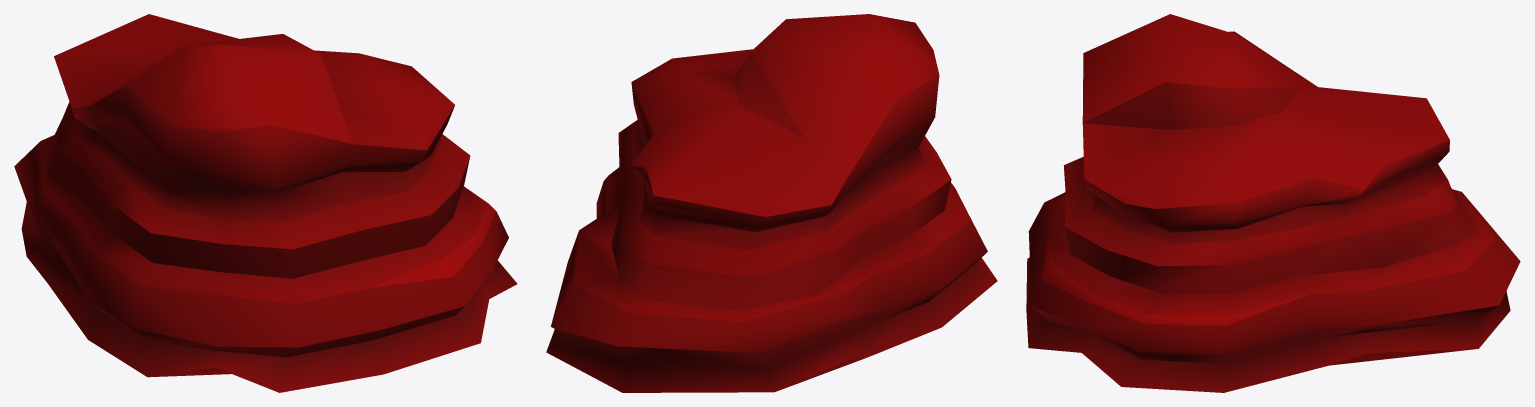
The model's file is geology-rocks-layeredrock_v4.fbx.
3 views of the same model, side by side, from view 1: azimuth 30°, elevation 25°; view 2: azimuth 150°, elevation 25°; view 3: azimuth 270°, elevation 25° (orthographic). The views are drawn at different scales.
Parts seen in each view (by area): view 1: LayeredRock_v4; view 2: LayeredRock_v4; view 3: LayeredRock_v4.
Part boxes in pixels (left/top/right/bottom): LayeredRock_v4: left=14, top=14, right=517, bottom=392; LayeredRock_v4: left=546, top=14, right=997, bottom=392; LayeredRock_v4: left=1026, top=14, right=1520, bottom=392.
Size of the model in its own units: 8.92 by 7.39 by 11.29.
